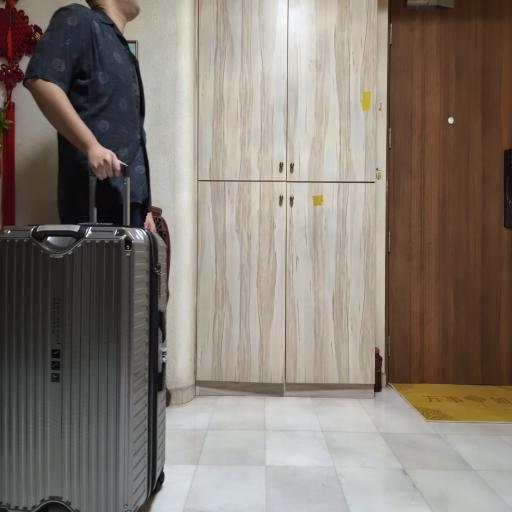person_right: (8, 0, 181, 504)
